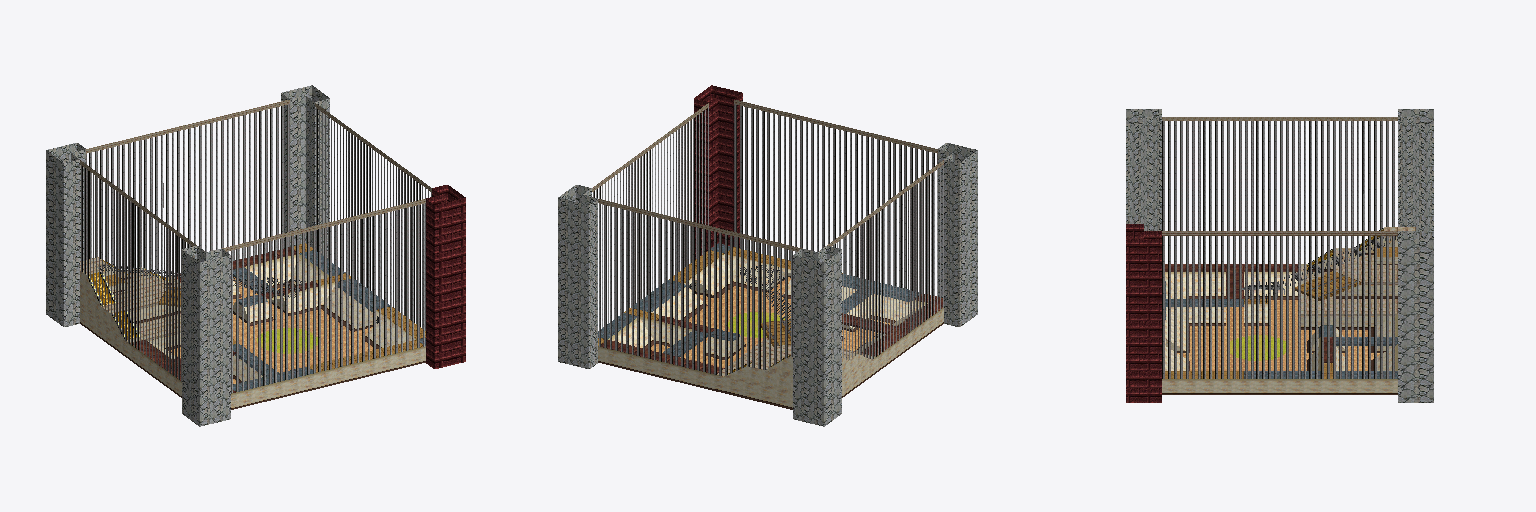
The picture shows the model from 3 angles: view 1: azimuth 30°, elevation 25°; view 2: azimuth 150°, elevation 25°; view 3: azimuth 270°, elevation 25°; orthographic projection.
Parts seen in each view (by area): view 1: r0; view 2: r0; view 3: r0.
Part boxes in pixels (bbox=[...]): r0: bbox=[46, 85, 465, 426]; r0: bbox=[558, 85, 977, 426]; r0: bbox=[1126, 109, 1433, 402].
Size of the model in its own units: 6.8 by 4.01 by 6.8.
Materials: 13 (13 with a texture image).